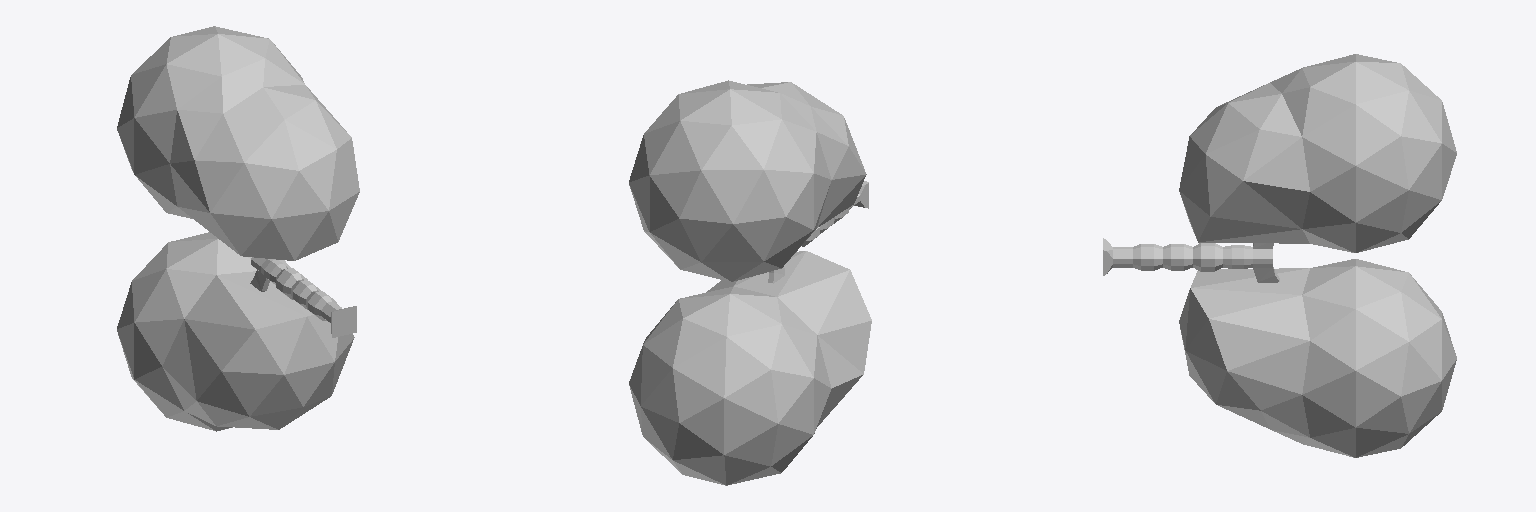
File: LungsTarget.obj
The picture shows the model from 3 angles: view 1: azimuth 30°, elevation 25°; view 2: azimuth 150°, elevation 25°; view 3: azimuth 270°, elevation 25°; orthographic projection.
Visible parts, largest first — view 1: Mesh; view 2: Mesh; view 3: Mesh.
Boxes of the visible parts, box(x1,y1,x2,y2) form: Mesh: box(117, 26, 359, 431); Mesh: box(629, 80, 871, 485); Mesh: box(1103, 54, 1456, 457).
Bounding box in the file's own units: 9.65 × 21.43 × 17.71.